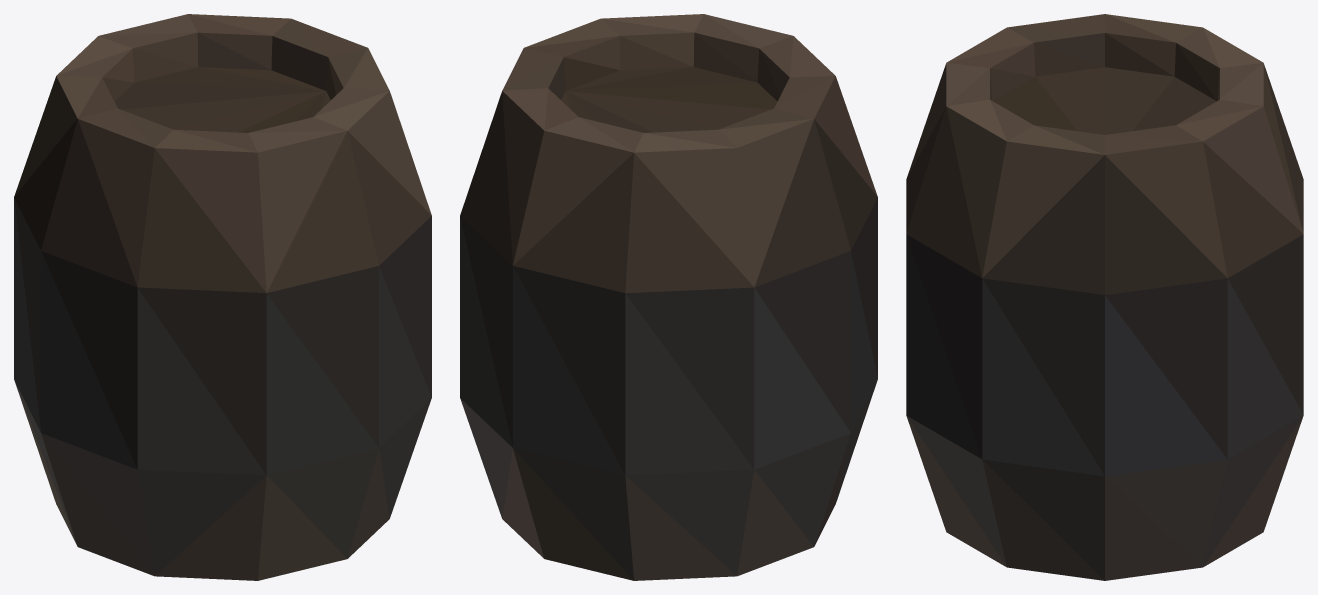
The model's file is prop_container_barrel_1.fbx.
3 views of the same model, side by side, from view 1: azimuth 30°, elevation 25°; view 2: azimuth 150°, elevation 25°; view 3: azimuth 270°, elevation 25° (orthographic).
Visible parts, largest first — view 1: prop_container_barrel_1; view 2: prop_container_barrel_1; view 3: prop_container_barrel_1.
Part boxes in pixels (bbox=[...]): prop_container_barrel_1: bbox=[14, 14, 431, 580]; prop_container_barrel_1: bbox=[460, 14, 877, 580]; prop_container_barrel_1: bbox=[906, 14, 1303, 580].
Size of the model in its own units: 1.07 by 1.2 by 1.01.
